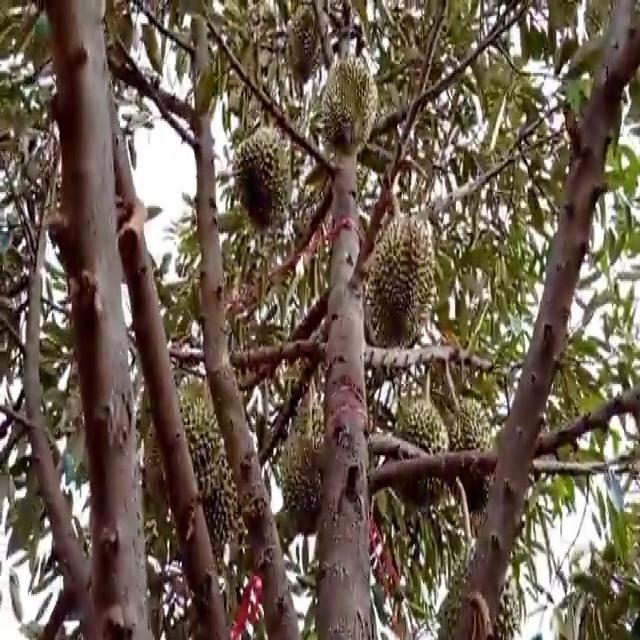durian: (136, 374, 229, 514), (359, 203, 442, 354), (158, 452, 246, 584), (431, 532, 525, 638), (439, 393, 501, 518), (228, 118, 294, 235), (391, 397, 451, 511), (313, 57, 382, 155), (276, 423, 335, 536), (279, 2, 330, 85)
